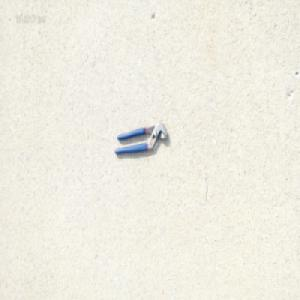Pliers: (113, 121, 168, 156)
